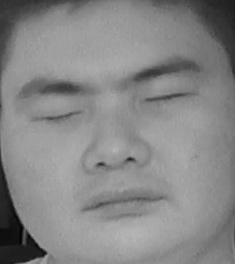blink: (32, 100, 84, 135), (144, 79, 196, 113)
mouth: (79, 179, 169, 227)
